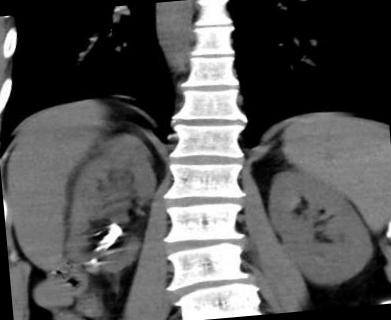Tas_Var: (98, 220, 125, 252), (92, 230, 102, 237), (87, 258, 97, 264), (94, 246, 100, 252)
